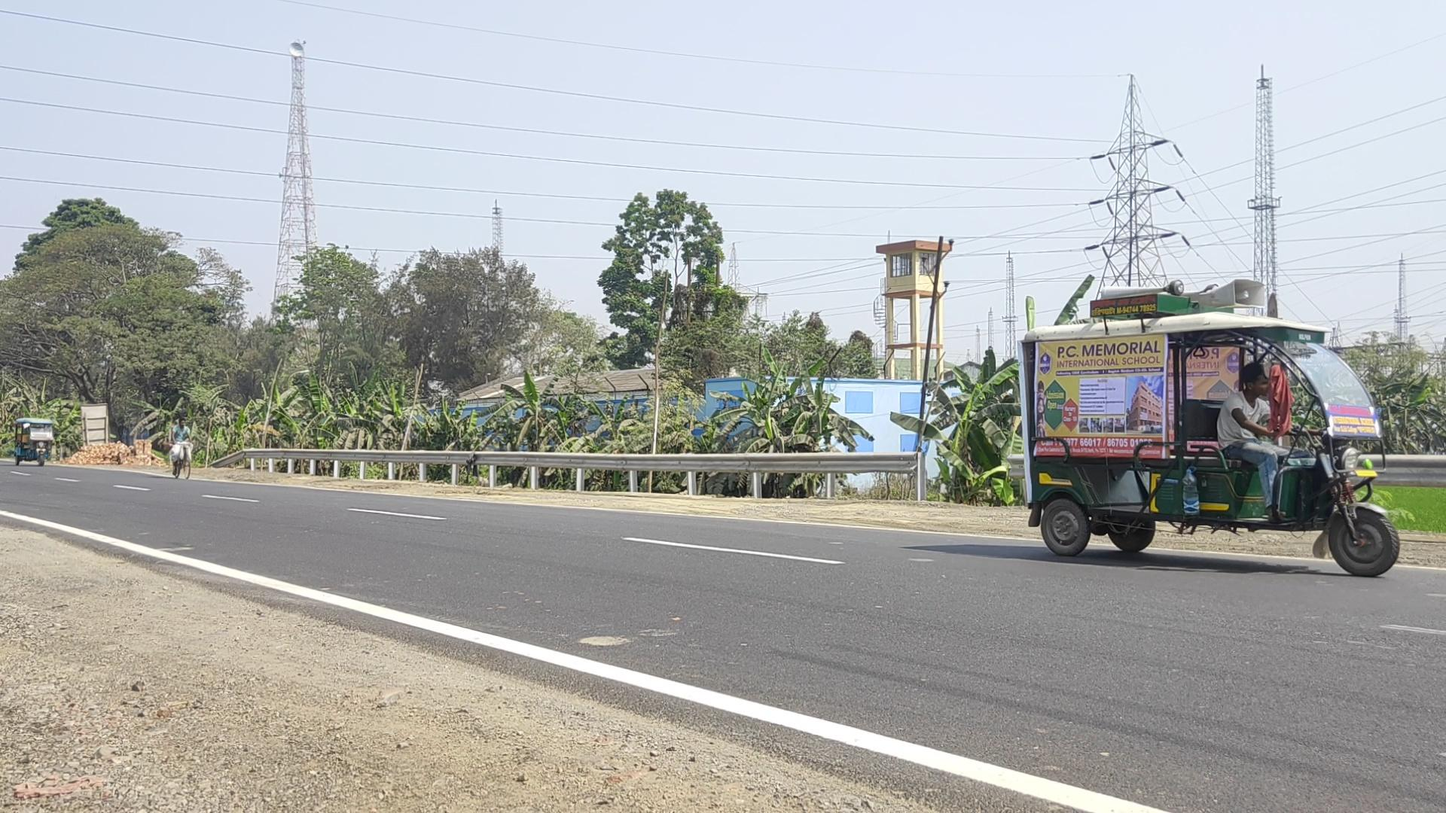Auto: (1016, 279, 1401, 577), (14, 417, 53, 467)
bike: (169, 417, 193, 480)
